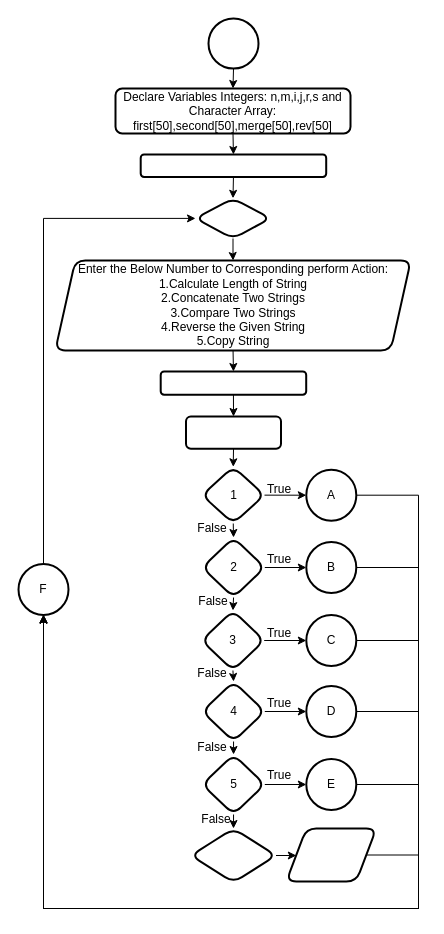
Some shapes in this 444 by 934 pixel diagram are drawn without their labels. Here are the shapes that lost their labels. From the top down, the box of each, then its label:
(207, 17, 259, 69): Start
(139, 153, 327, 178): Initialize Variables i=0,j=0,r=0
(194, 197, 271, 239): While
(159, 370, 307, 395): Take Input for Integer 'n'
(184, 415, 282, 449): Switch 'o'
(190, 827, 276, 883): Default
(285, 827, 377, 882): Print "Enter Valid Input"
